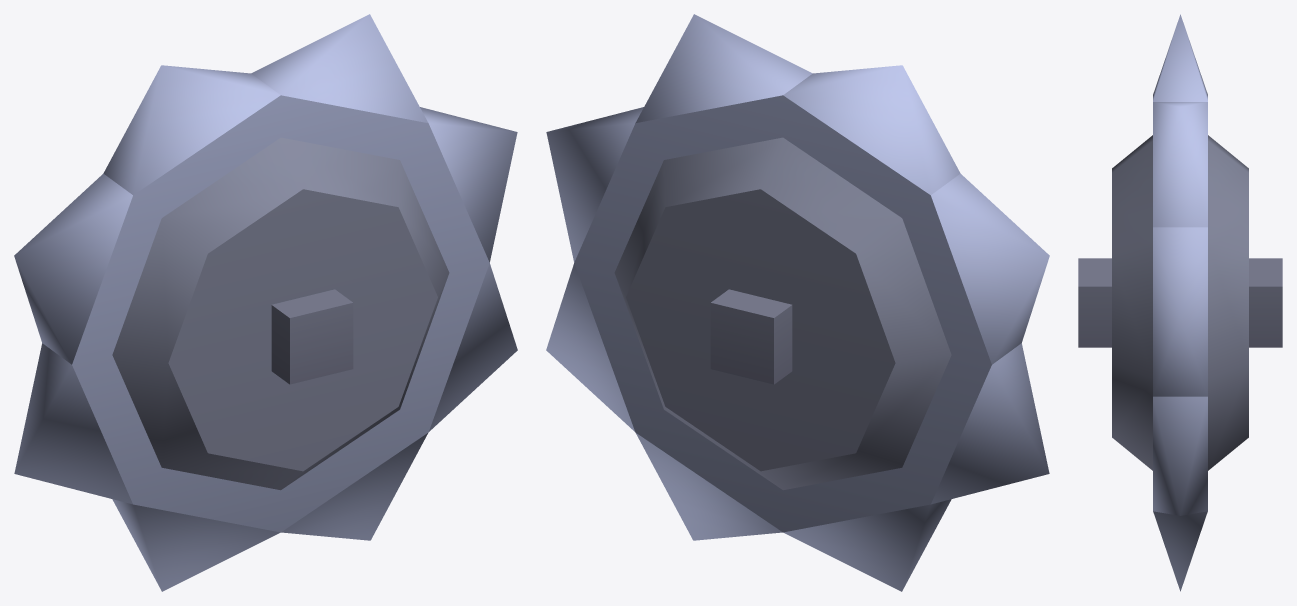
File: saw.glb
3 renders of one model, left to right at view 1: azimuth 30°, elevation 25°; view 2: azimuth 150°, elevation 25°; view 3: azimuth 270°, elevation 25°, orthographic. The views are drawn at different scales.
Parts seen in each view (by area): view 1: saw; view 2: saw; view 3: saw.
Part boxes in pixels (x1,y1,x2,y2): saw: [14, 14, 517, 591]; saw: [546, 14, 1049, 591]; saw: [1078, 14, 1282, 591].
Size of the model in its own units: 0.7937 by 0.7937 by 0.3033.
1 material, 1 textured.
